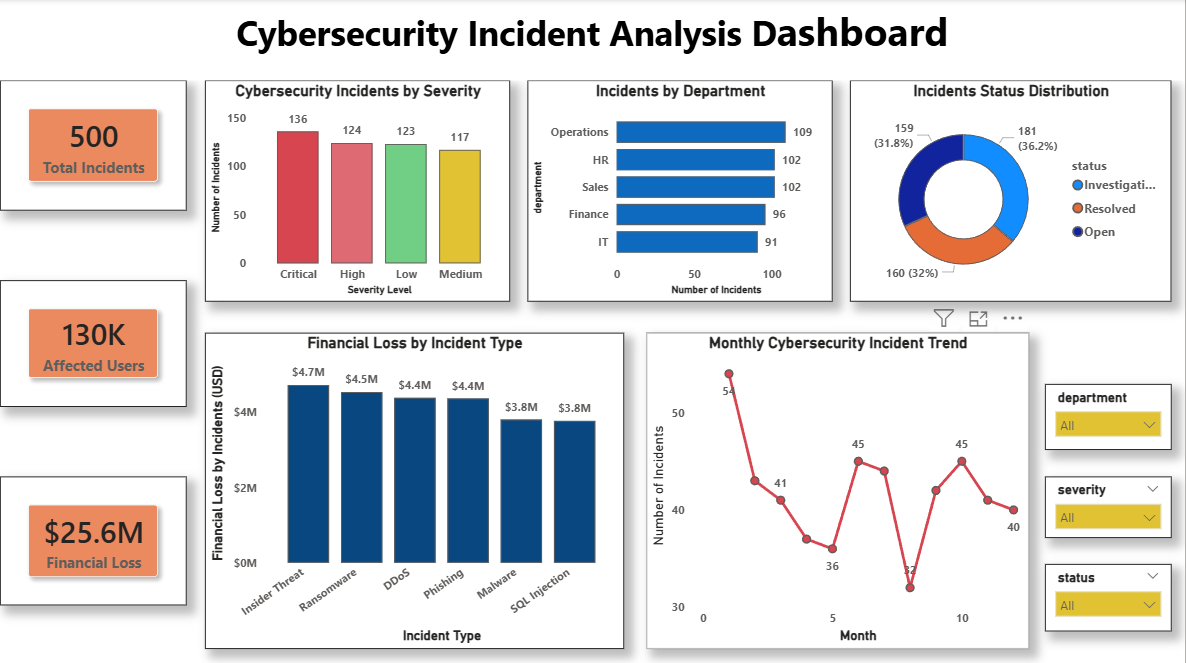

Layout of this report page (visuals, bound fields, positions):
{"tool":"powerbi","page":{"name":"Page 1","canvas":[1280,720],"ordinal":0},"visuals":[{"type":"cardVisual","fields":{"Data":["CountNonNull(cybersecurity_incidents.incident_id)"]},"box":[0,87.8,201.2,140.5],"z":0},{"type":"cardVisual","fields":{"Data":["Sum(cybersecurity_incidents.financial_loss_usd)"]},"box":[0,515.9,201.2,139.1],"z":1000},{"type":"cardVisual","fields":{"Data":["Sum(cybersecurity_incidents.affected_users)"]},"box":[0,303.9,201.2,136.4],"z":2000},{"type":"clusteredColumnChart","title":"Cybersecurity Incidents by Severity","fields":{"Category":["cybersecurity_incidents.severity"],"Y":["CountNonNull(cybersecurity_incidents.incident_id)"]},"box":[221.5,87.8,329.5,239],"z":3000},{"type":"clusteredBarChart","title":"Incidents by Department","fields":{"Category":["cybersecurity_incidents.department"],"Y":["CountNonNull(cybersecurity_incidents.incident_id)"]},"box":[569.9,87.8,329.5,239],"z":4000},{"type":"lineChart","title":"Monthly Cybersecurity Incident Trend","fields":{"Category":["cybersecurity_incidents.Month"],"Y":["CountNonNull(cybersecurity_incidents.incident_id)"]},"box":[698.2,360.6,413.3,341.7],"z":5000},{"type":"clusteredColumnChart","title":"Financial Loss by Incident Type","fields":{"Category":["cybersecurity_incidents.incident_type"],"Y":["Sum(cybersecurity_incidents.financial_loss_usd)"]},"box":[221.5,360.6,452.4,341.7],"z":6000},{"type":"donutChart","title":"Incidents Status Distribution","fields":{"Category":["cybersecurity_incidents.status"],"Y":["CountNonNull(cybersecurity_incidents.incident_type)"]},"box":[918.3,87.8,347.1,239],"z":7000},{"type":"slicer","fields":{"Values":["cybersecurity_incidents.severity"]},"box":[1129,515.9,136.4,66.2],"z":8000},{"type":"slicer","fields":{"Values":["cybersecurity_incidents.status"]},"box":[1129,610.4,136.4,72.9],"z":9000},{"type":"slicer","fields":{"Values":["cybersecurity_incidents.department"]},"box":[1129,416,136.4,71.6],"z":10000},{"type":"textbox","box":[0,0,1280.3,87.8],"z":11000}]}

Visuals, with their boxes in screenshot pixels (x1, y1, x2, y2), scaled from the page's 1280x720 canvas onto the 1186x663 screenshot:
cardVisual - CountNonNull(cybersecurity_incidents.incident_id): left=0, top=81, right=186, bottom=210
cardVisual - Sum(cybersecurity_incidents.financial_loss_usd): left=0, top=475, right=186, bottom=603
cardVisual - Sum(cybersecurity_incidents.affected_users): left=0, top=280, right=186, bottom=405
"Cybersecurity Incidents by Severity" clusteredColumnChart: left=205, top=81, right=511, bottom=301
"Incidents by Department" clusteredBarChart: left=528, top=81, right=833, bottom=301
"Monthly Cybersecurity Incident Trend" lineChart: left=647, top=332, right=1030, bottom=647
"Financial Loss by Incident Type" clusteredColumnChart: left=205, top=332, right=624, bottom=647
"Incidents Status Distribution" donutChart: left=851, top=81, right=1172, bottom=301
slicer - cybersecurity_incidents.severity: left=1046, top=475, right=1172, bottom=536
slicer - cybersecurity_incidents.status: left=1046, top=562, right=1172, bottom=629
slicer - cybersecurity_incidents.department: left=1046, top=383, right=1172, bottom=449
textbox: left=0, top=0, right=1185, bottom=81
